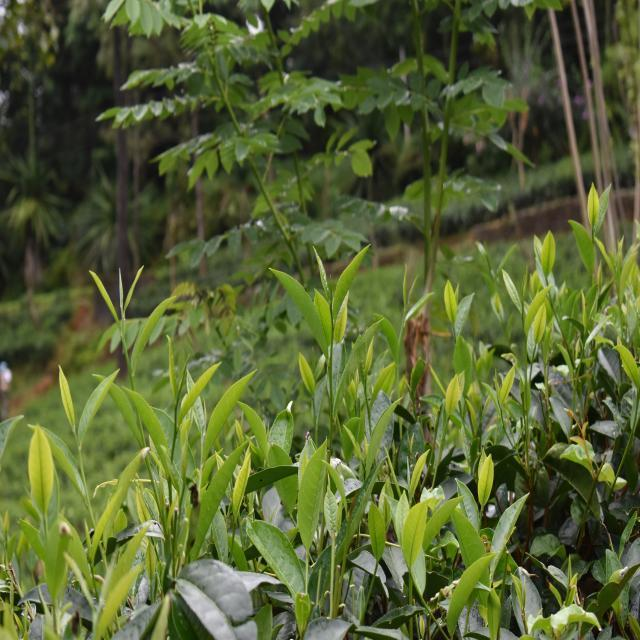Stem: (121, 336, 128, 354), (78, 448, 83, 465), (592, 232, 595, 247), (545, 278, 549, 287), (332, 328, 334, 341)
